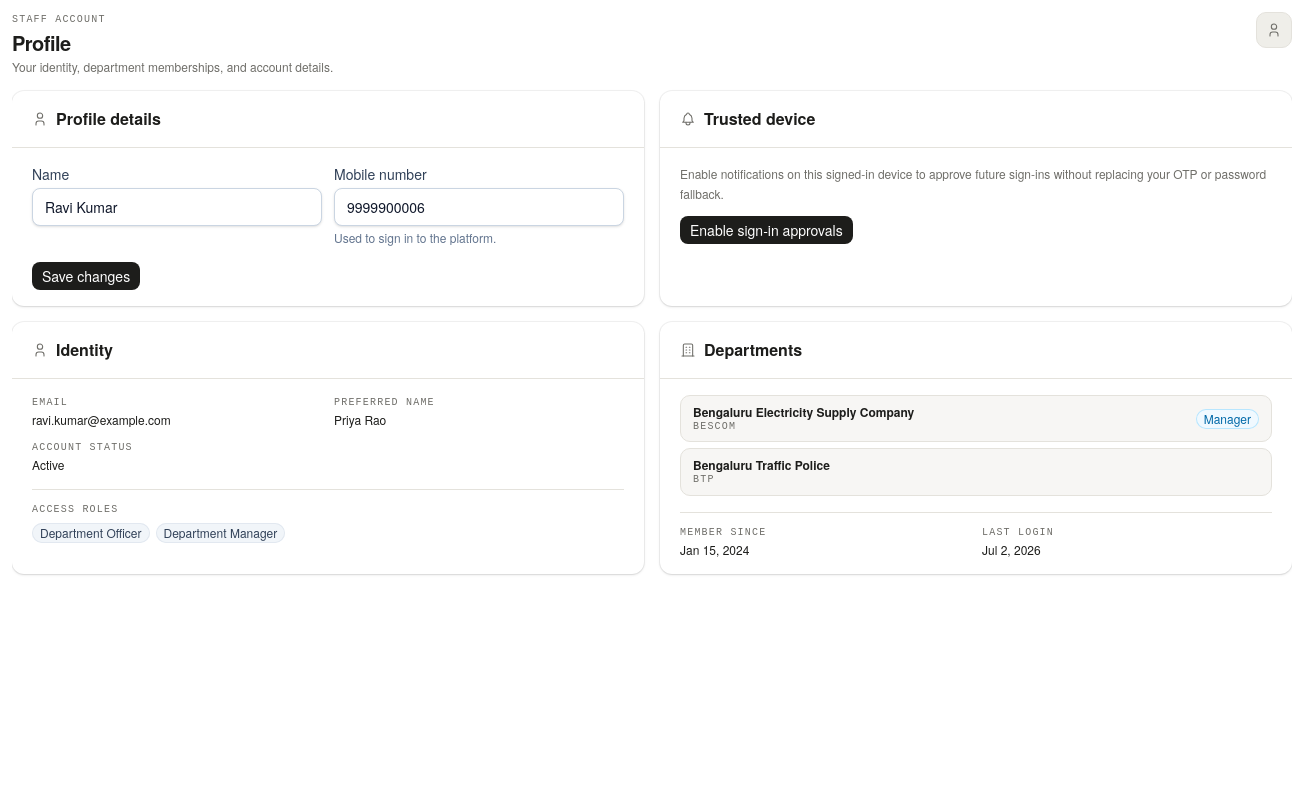
Test: StaffProfilePage › shows the save error message when updating the profile fails
Expected: the heading "Profile" is shown, [12,28,71,57]
Click the button "Save changes" at coordinates (86, 276), box [32,262,140,290]
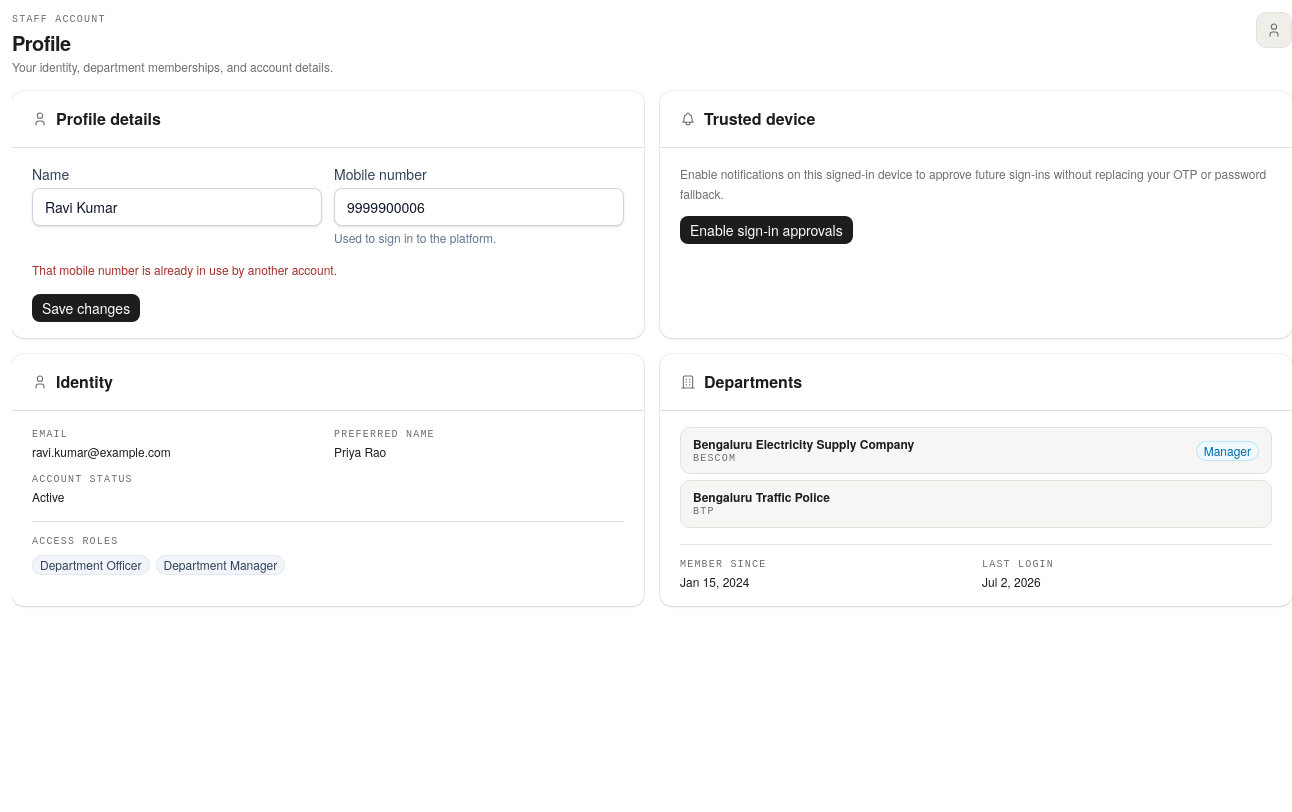
Expected: the message shows "already in use", [32,261,337,278]
